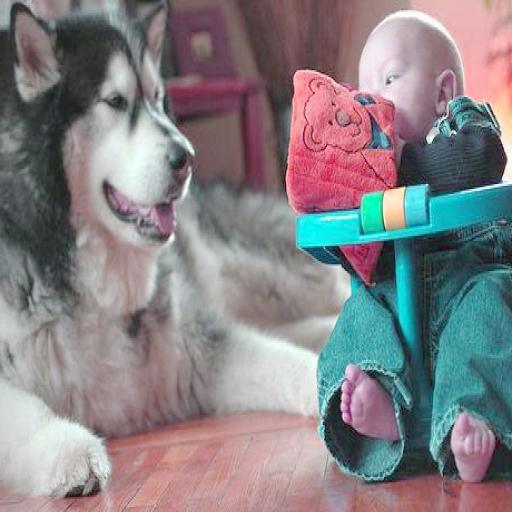dog_face: (6, 0, 194, 253)
